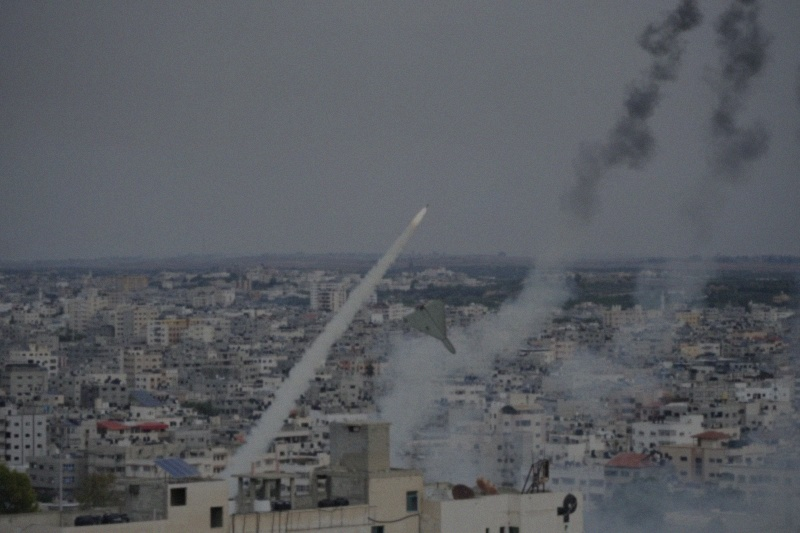shahed: (401, 293, 459, 358)
